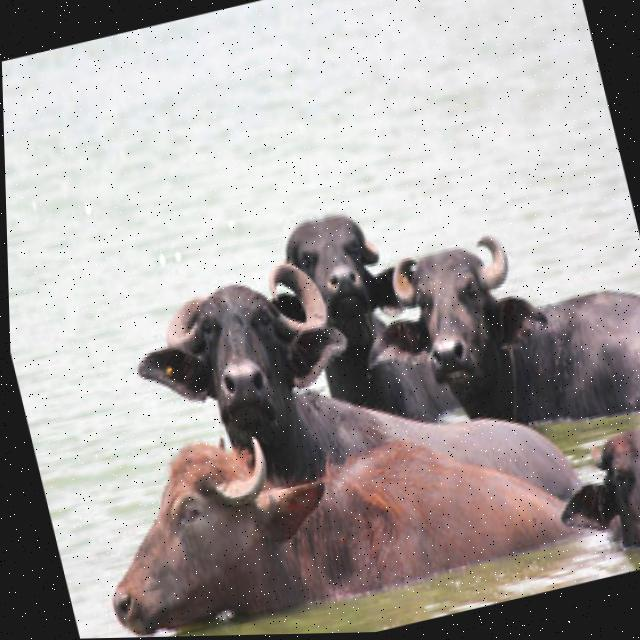Buffalo: (77, 364, 542, 639), (356, 196, 640, 473), (118, 252, 377, 488), (379, 229, 539, 395), (267, 202, 406, 349)
